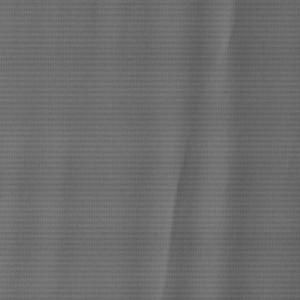Wrinkle: (156, 1, 259, 300), (19, 119, 98, 300)
